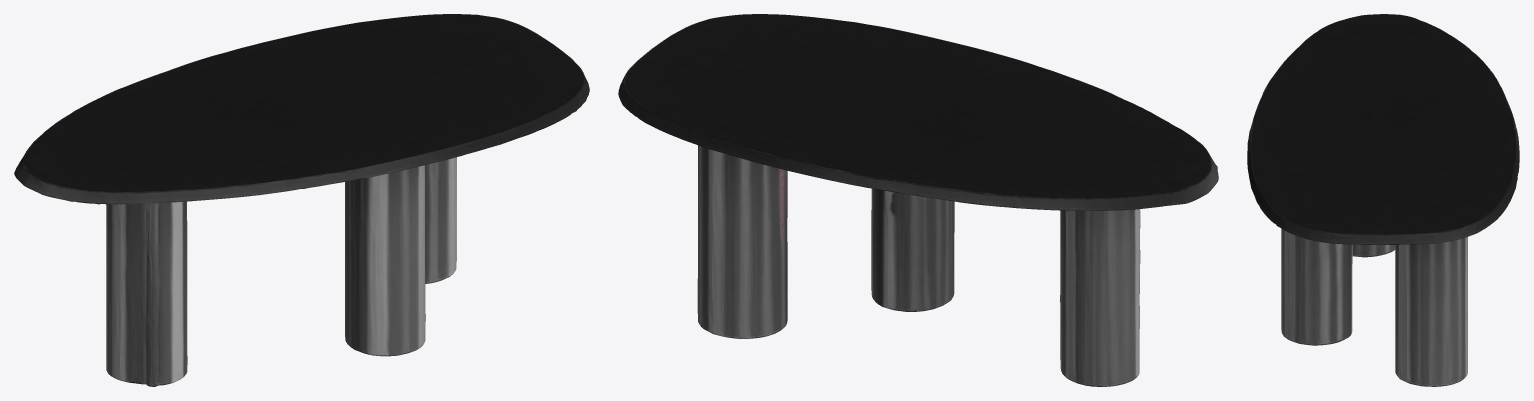
3 renders of one model, left to right at view 1: azimuth 30°, elevation 25°; view 2: azimuth 150°, elevation 25°; view 3: azimuth 270°, elevation 25°, orthographic. The views are drawn at different scales.
Visible parts, largest first — view 1: world; view 2: world; view 3: world.
Boxes of the visible parts, box(x1,y1,x2,y2) form: world: box(14, 14, 589, 386); world: box(618, 14, 1218, 386); world: box(1247, 14, 1519, 386).
Size of the model in its own units: 0.9964 by 0.3802 by 0.5087.
1 material, 1 textured.
